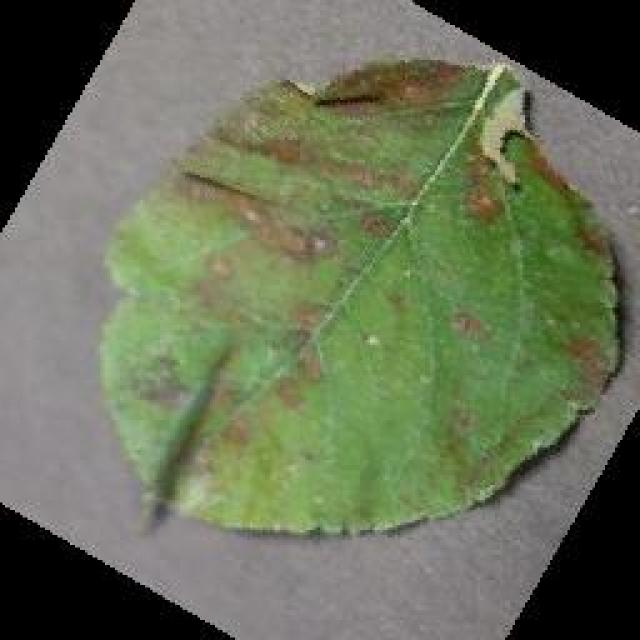apple healthy: (95, 52, 625, 538)
